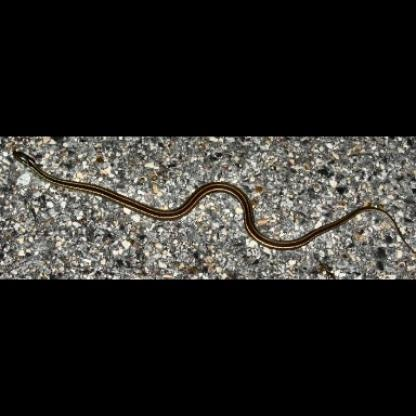Snake: (9, 145, 392, 250)
